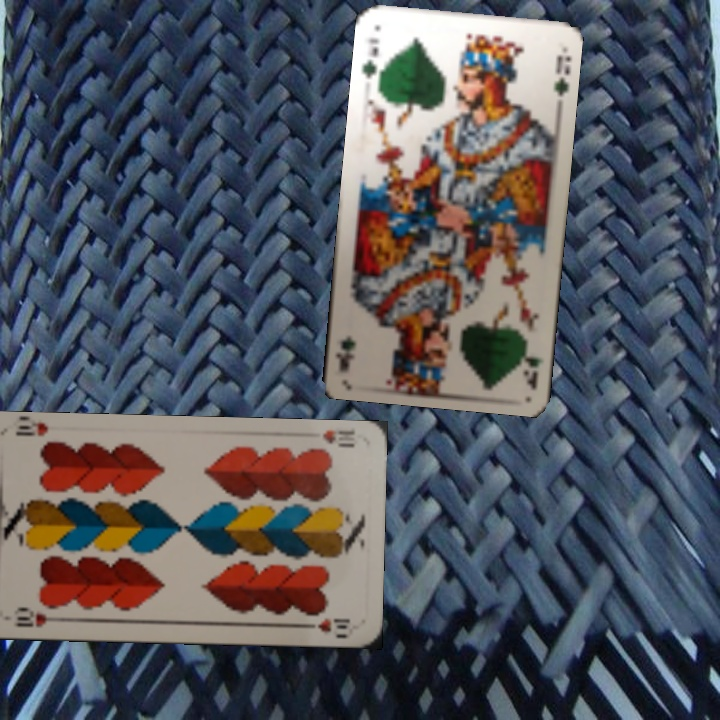GK: (517, 331, 545, 391), (358, 33, 383, 80)
H10: (12, 604, 66, 630), (319, 426, 357, 450)
